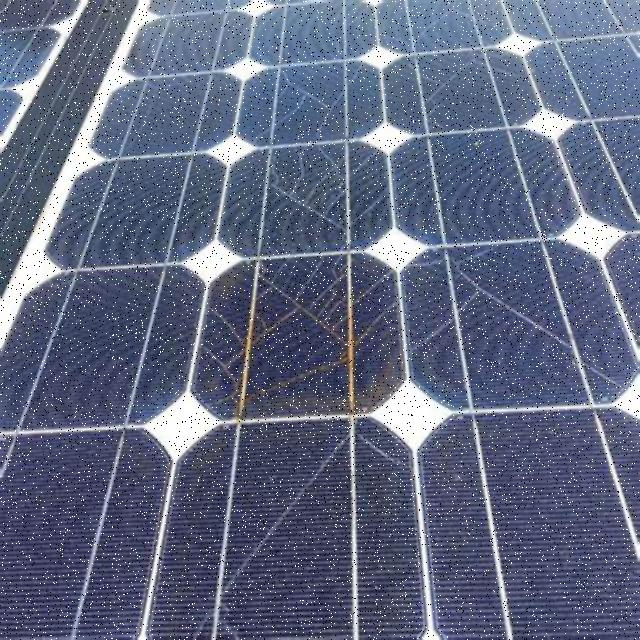electrical damage: (180, 247, 424, 430)
